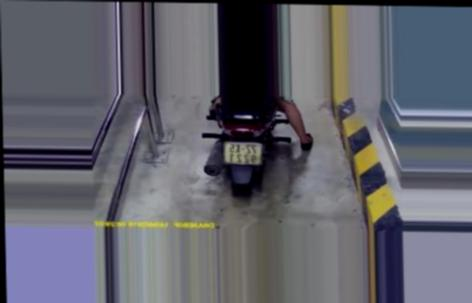License_Plate: (222, 138, 267, 168)
